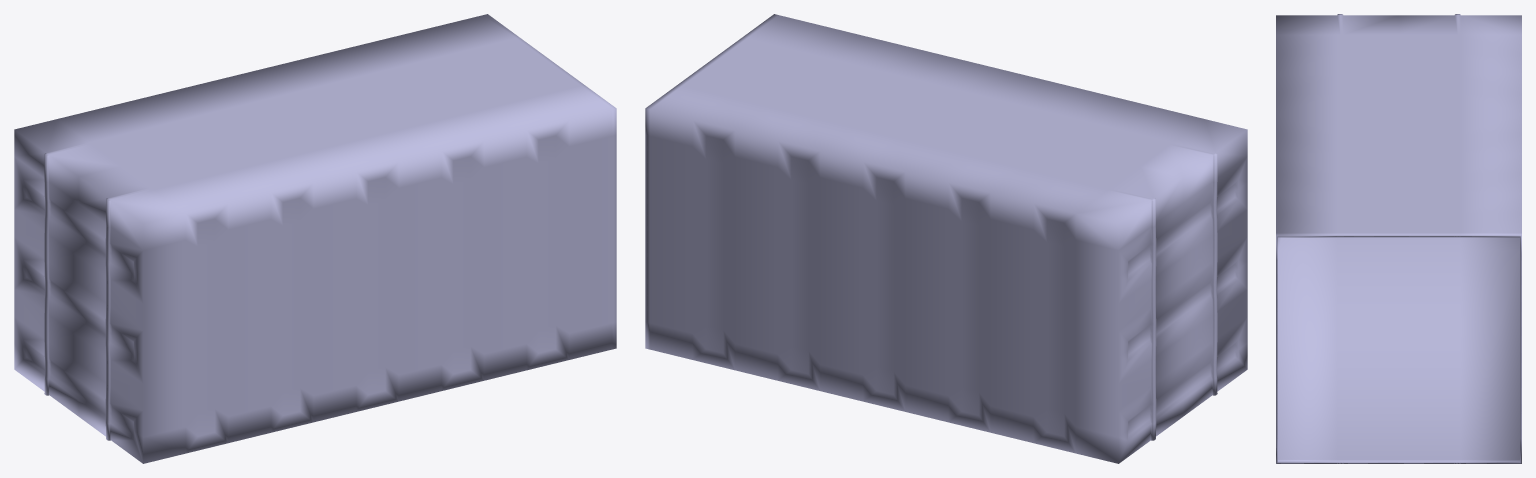
File: StorageContainer.fbx
3 renders of one model, left to right at view 1: azimuth 30°, elevation 25°; view 2: azimuth 150°, elevation 25°; view 3: azimuth 270°, elevation 25°, orthographic. The views are drawn at different scales.
Parts seen in each view (by area): view 1: Storagecontainer:Box001; view 2: Storagecontainer:Box001; view 3: Storagecontainer:Box001.
Boxes of the visible parts, bbox=[...] form: Storagecontainer:Box001: bbox=[14, 14, 616, 463]; Storagecontainer:Box001: bbox=[645, 14, 1247, 463]; Storagecontainer:Box001: bbox=[1276, 14, 1521, 463].
Size of the model in its own units: 37.25 by 17.95 by 17.49.
